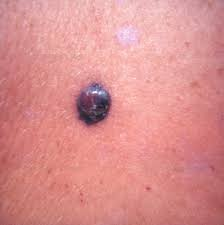melanoma: (53, 64, 133, 145)
